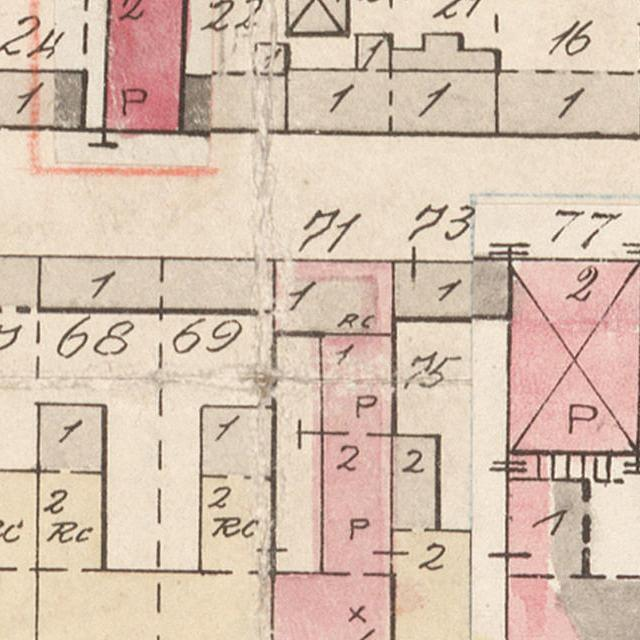building-footprints: (36, 404, 274, 640), (272, 334, 393, 640), (507, 260, 640, 455), (286, 35, 497, 135), (392, 434, 471, 640), (39, 257, 275, 314), (105, 0, 185, 133), (497, 72, 640, 136), (275, 260, 394, 334), (394, 259, 510, 320), (0, 470, 37, 640), (181, 74, 286, 133), (0, 70, 85, 130), (390, 34, 498, 72), (0, 256, 41, 310), (288, 0, 348, 36), (255, 43, 287, 75)
